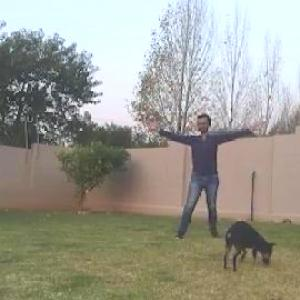takeoff: (152, 108, 276, 248)
